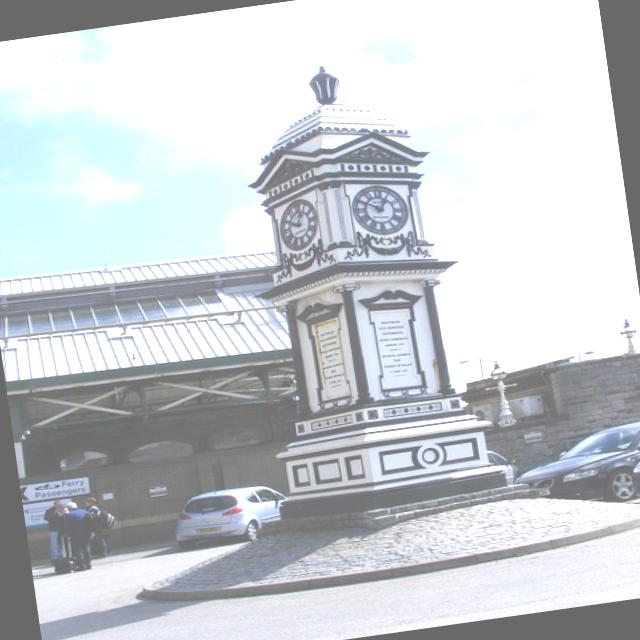Vehicle: (504, 416, 640, 515), (169, 480, 294, 552), (486, 446, 520, 489), (625, 441, 640, 506)
